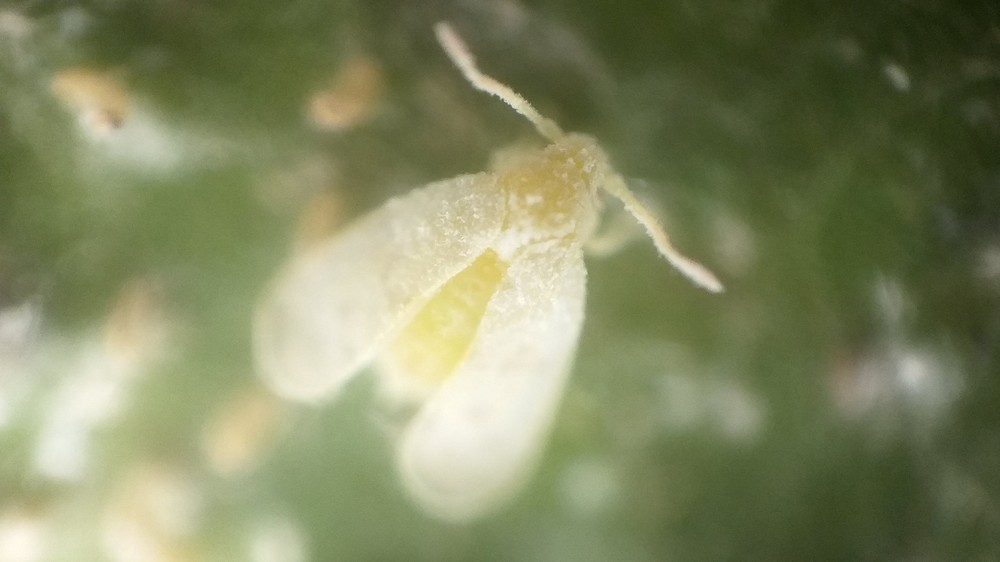Mosca Blanca: (237, 19, 736, 525)
